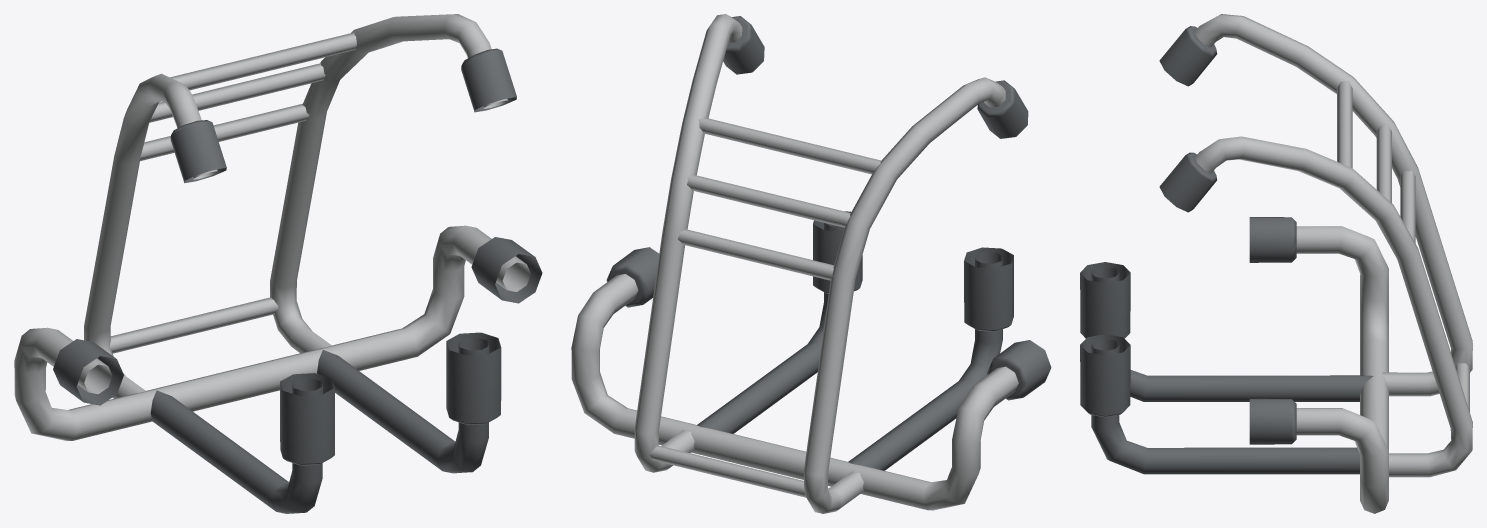
File: Car_11_RearBumper_Cool.fbx
3 renders of one model, left to right at view 1: azimuth 30°, elevation 25°; view 2: azimuth 150°, elevation 25°; view 3: azimuth 270°, elevation 25°, orthographic. The views are drawn at different scales.
Visible parts, largest first — view 1: Car_11_RearBumper_Cool; view 2: Car_11_RearBumper_Cool; view 3: Car_11_RearBumper_Cool.
Boxes of the visible parts, box(x1,y1,x2,y2) form: Car_11_RearBumper_Cool: box(14, 14, 542, 513); Car_11_RearBumper_Cool: box(571, 14, 1051, 513); Car_11_RearBumper_Cool: box(1080, 14, 1472, 513).
Size of the model in its own units: 111 by 91.38 by 92.64.
